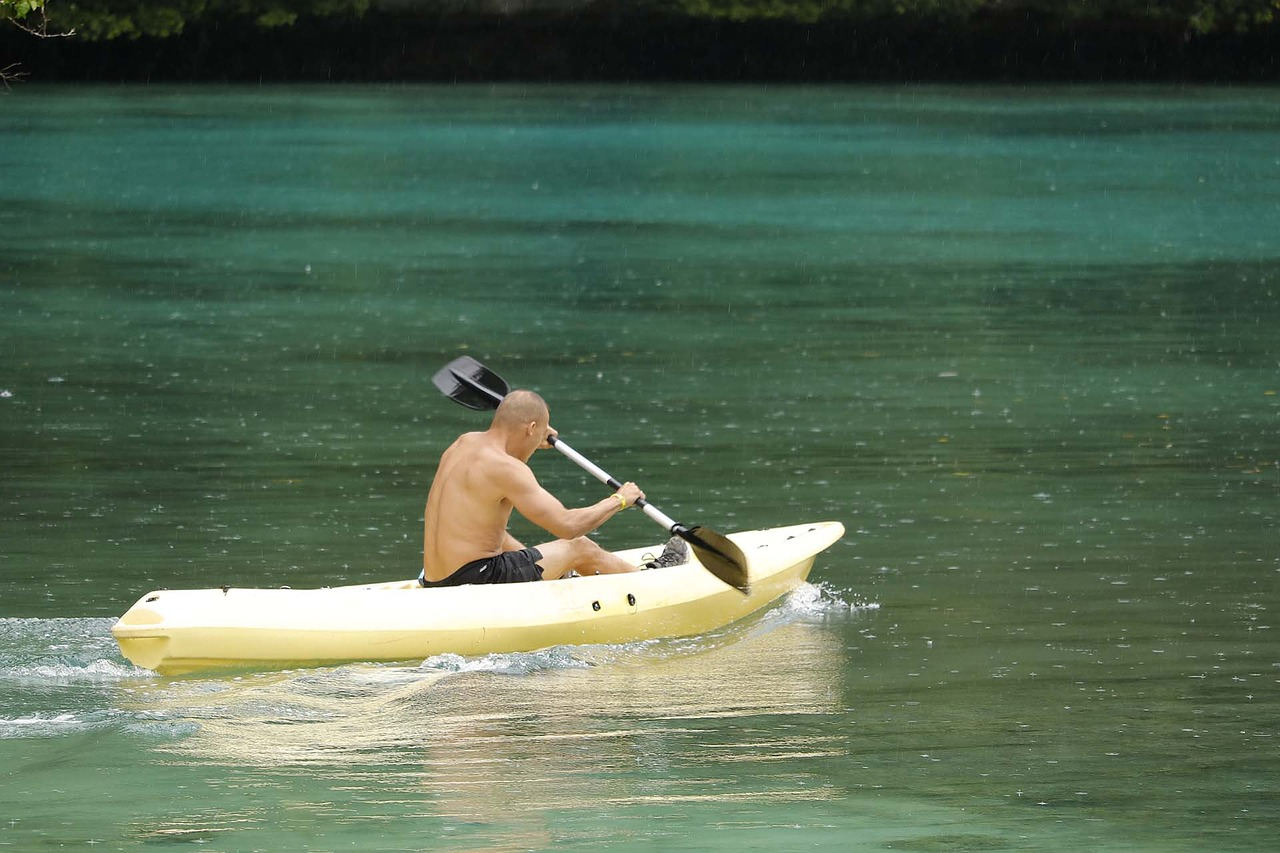kayak: (102, 516, 849, 677)
